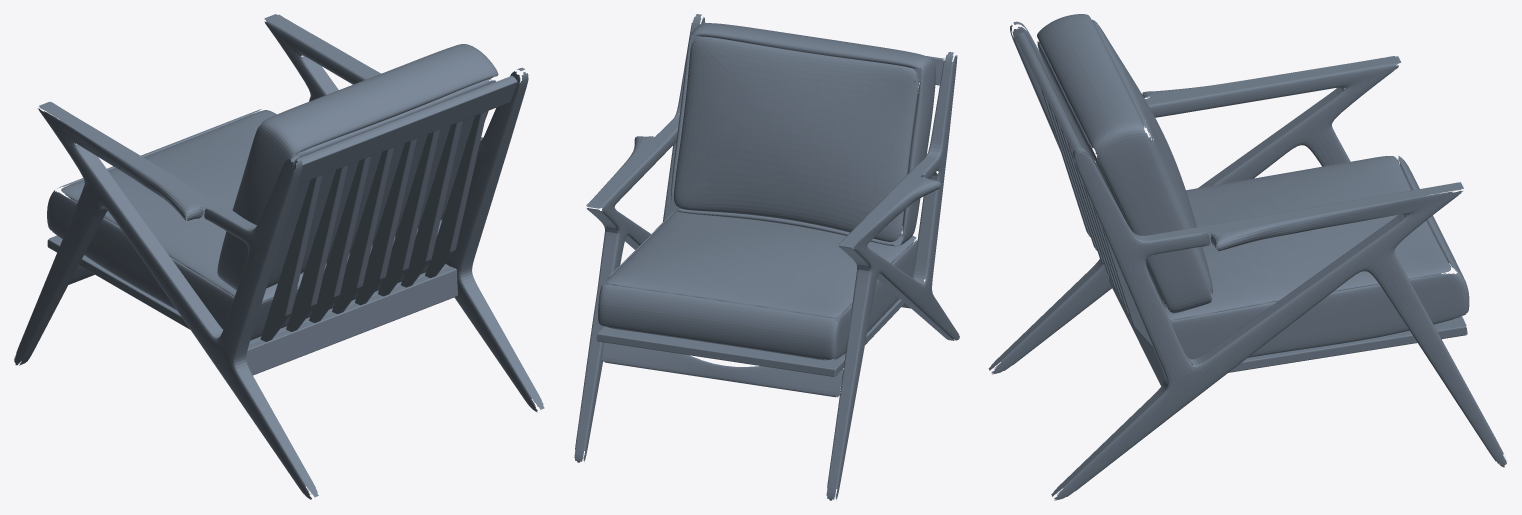
File: chair.glb
3 views of the same model, side by side, from view 1: azimuth 30°, elevation 25°; view 2: azimuth 150°, elevation 25°; view 3: azimuth 270°, elevation 25° (orthographic). The views are drawn at different scales.
Parts seen in each view (by area): view 1: Group1; view 2: Group1; view 3: Group1.
Boxes of the visible parts, <box> form: Group1: <box>14,14,544,499</box>; Group1: <box>574,14,959,500</box>; Group1: <box>988,14,1506,500</box>.
Size of the model in its own units: 0.9725 by 0.9656 by 1.23.
